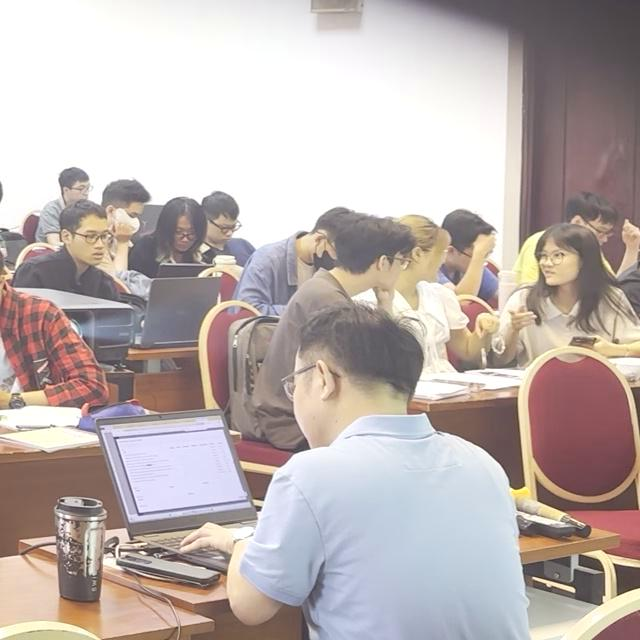Looking away: (537, 241, 582, 283), (71, 217, 108, 267), (114, 199, 147, 239), (168, 215, 197, 254), (212, 208, 242, 243), (69, 173, 92, 200)
